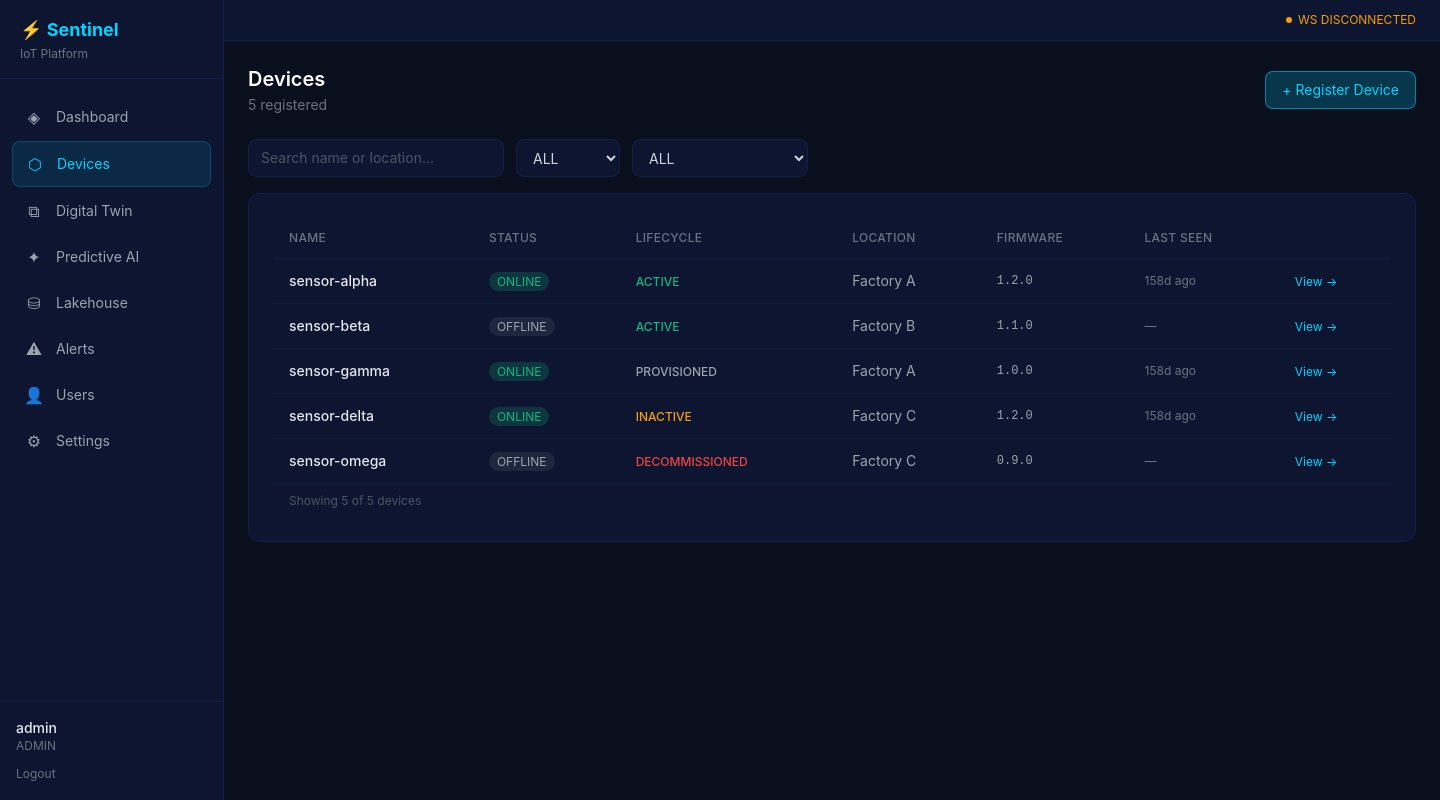
Test: Devices Page › search by name filters the table
Type "alpha" into the search field with placeholder "Search name or location…" at {"x": 376, "y": 158}, box [248, 139, 504, 177]
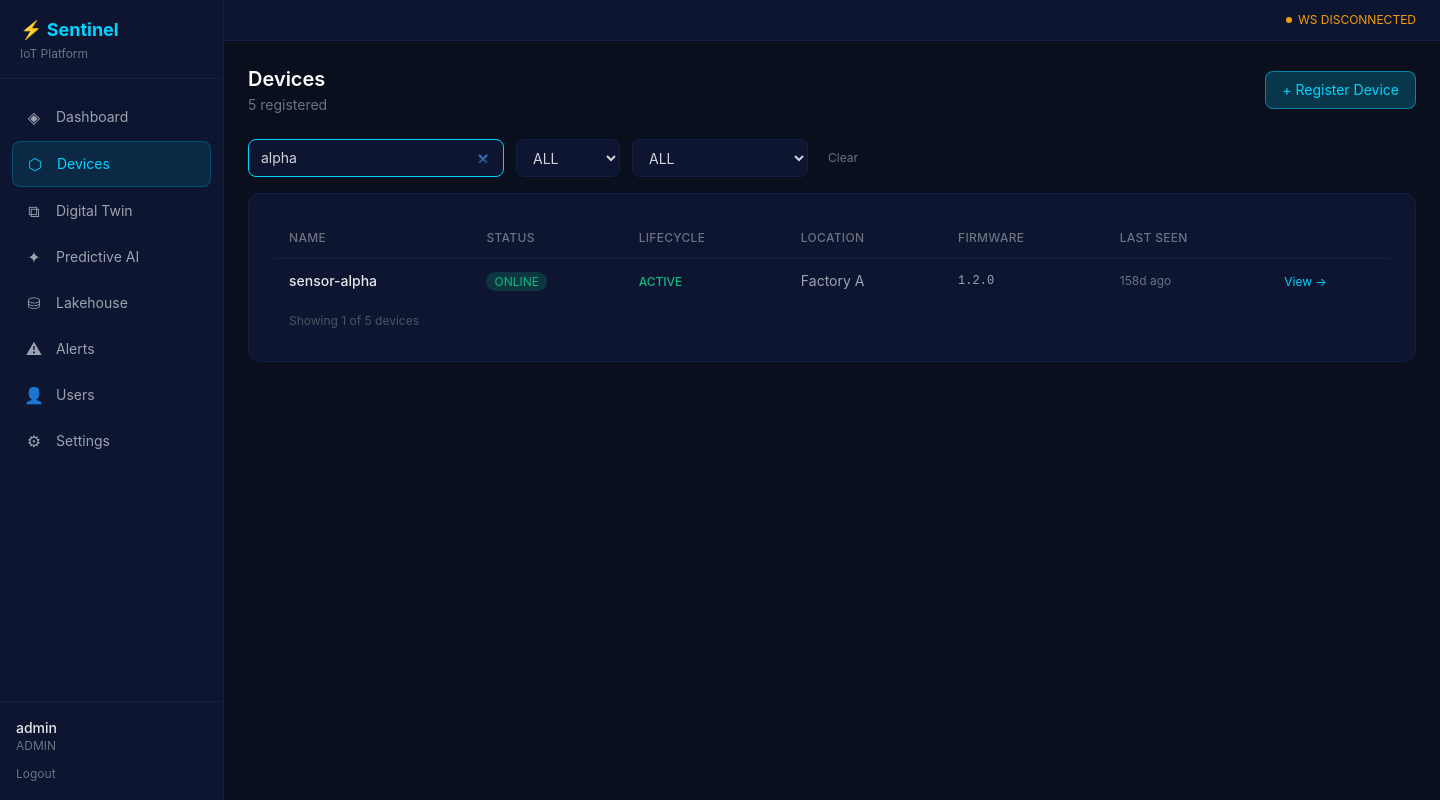
Expected: the text "sensor-alpha" is shown, [273, 258, 470, 304]
Expected: the text "sensor-beta" is gone
